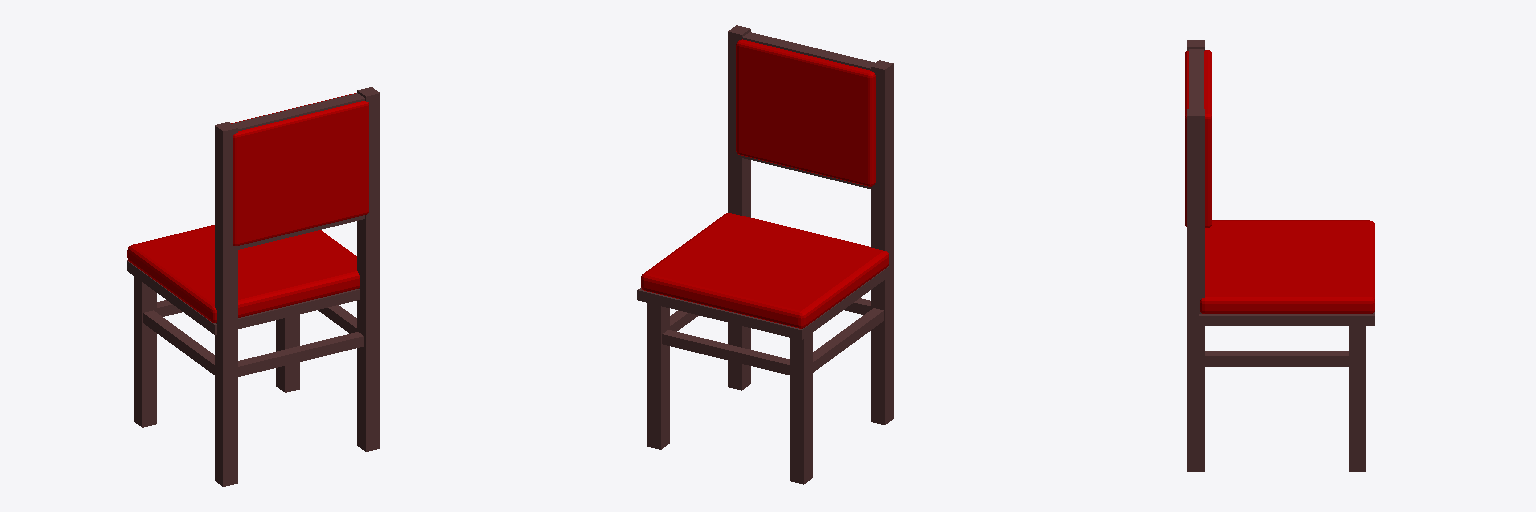
File: chair3.obj
3 renders of one model, left to right at view 1: azimuth 30°, elevation 25°; view 2: azimuth 150°, elevation 25°; view 3: azimuth 270°, elevation 25°, orthographic.
Parts seen in each view (by area): view 1: chair3; view 2: chair3; view 3: chair3.
Boxes of the visible parts, x1,y1,x2,y2 form: chair3: [127, 87, 379, 486]; chair3: [637, 25, 893, 484]; chair3: [1185, 40, 1374, 471].
Bounding box in the file's own units: 0.546 × 1.12 × 0.5431.